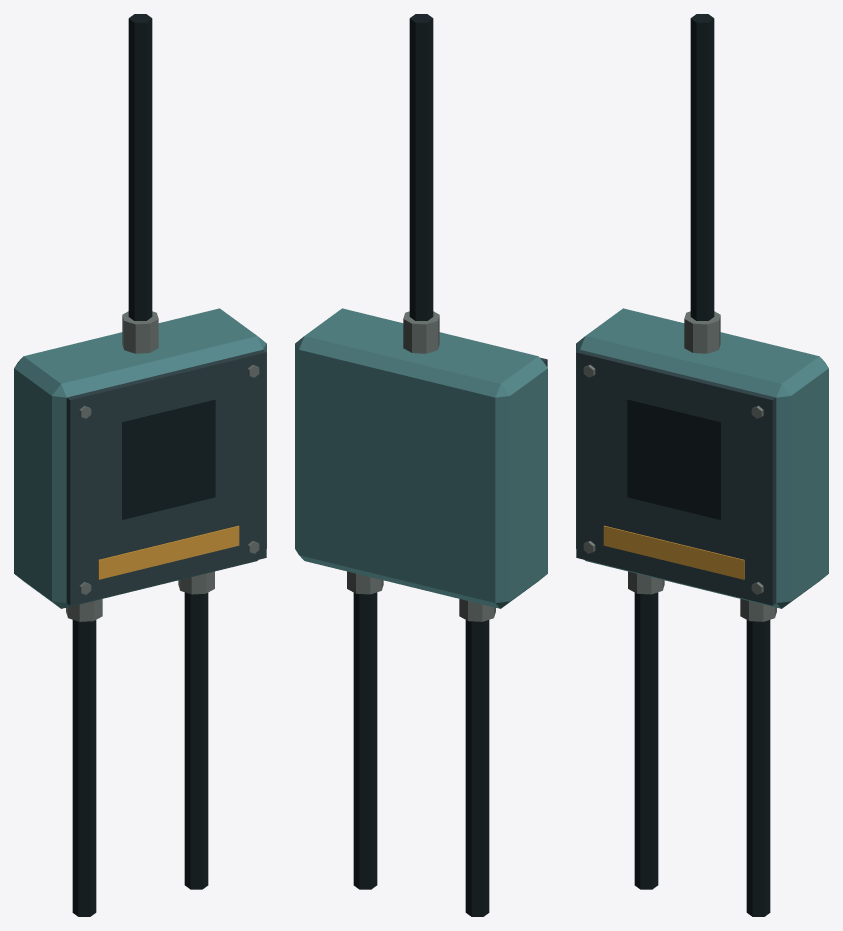
The model's file is junction-box.glb.
3 renders of one model, left to right at view 1: azimuth 30°, elevation 25°; view 2: azimuth 150°, elevation 25°; view 3: azimuth 330°, elevation 25°, orthographic.
Parts seen in each view (by area): view 1: junction-box__junction-box__steel, junction-box__junction-box__rubber, junction-box__junction-box__petrol, junction-box__junction-box__decal-indigo, junction-box__junction-box__hardware, junction-box__junction-box__amber; view 2: junction-box__junction-box__petrol, junction-box__junction-box__rubber, junction-box__junction-box__hardware; view 3: junction-box__junction-box__steel, junction-box__junction-box__rubber, junction-box__junction-box__petrol, junction-box__junction-box__decal-indigo, junction-box__junction-box__hardware, junction-box__junction-box__amber.
Boxes of the visible parts, x1=… form: junction-box__junction-box__steel: x1=66, y1=350, x2=266, y2=605; junction-box__junction-box__rubber: x1=72, y1=14, x2=208, y2=916; junction-box__junction-box__petrol: x1=14, y1=308, x2=266, y2=608; junction-box__junction-box__decal-indigo: x1=122, y1=399, x2=215, y2=519; junction-box__junction-box__hardware: x1=66, y1=311, x2=259, y2=621; junction-box__junction-box__amber: x1=98, y1=525, x2=239, y2=579; junction-box__junction-box__petrol: x1=295, y1=308, x2=547, y2=608; junction-box__junction-box__rubber: x1=353, y1=14, x2=489, y2=916; junction-box__junction-box__hardware: x1=347, y1=311, x2=495, y2=621; junction-box__junction-box__steel: x1=576, y1=350, x2=776, y2=605; junction-box__junction-box__rubber: x1=634, y1=14, x2=770, y2=916; junction-box__junction-box__petrol: x1=576, y1=308, x2=828, y2=608; junction-box__junction-box__decal-indigo: x1=627, y1=399, x2=720, y2=519; junction-box__junction-box__hardware: x1=583, y1=311, x2=776, y2=621; junction-box__junction-box__amber: x1=603, y1=525, x2=744, y2=579.
Bounding box in the file's own units: 0.46 × 1.8 × 0.201.
